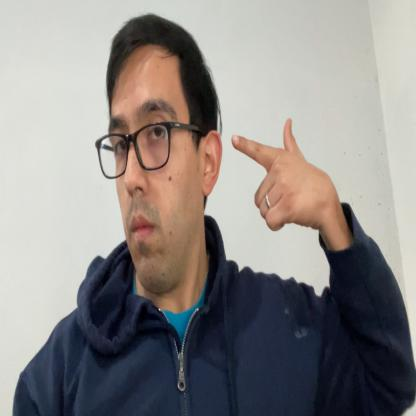G: (231, 117, 310, 232)
